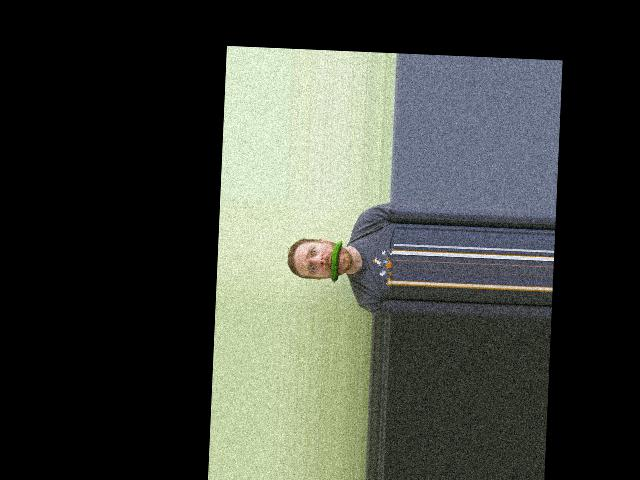cucumber: (330, 239, 343, 283)
